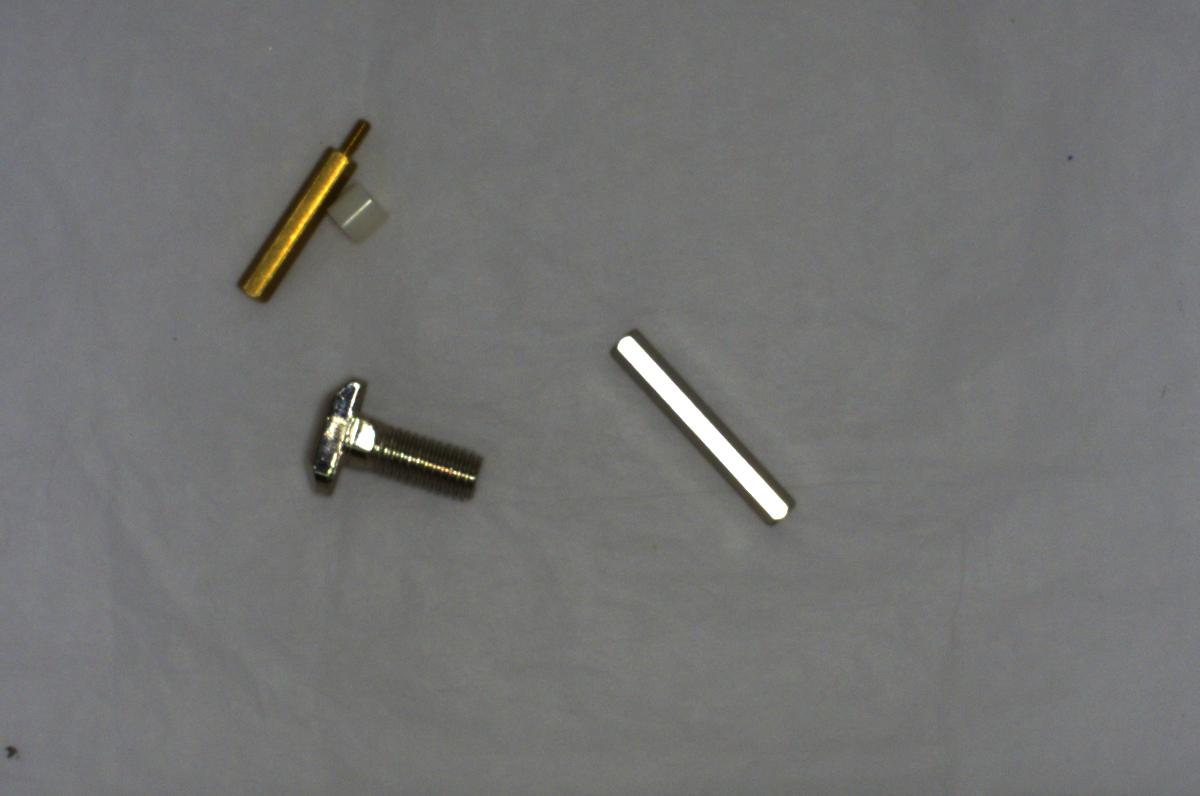Double hexagonal column: (602, 325, 793, 528)
Hexagon pillar: (245, 112, 371, 302)
Plastic cushion pillar: (325, 179, 394, 243)
T-shaped screw: (300, 374, 484, 510)
